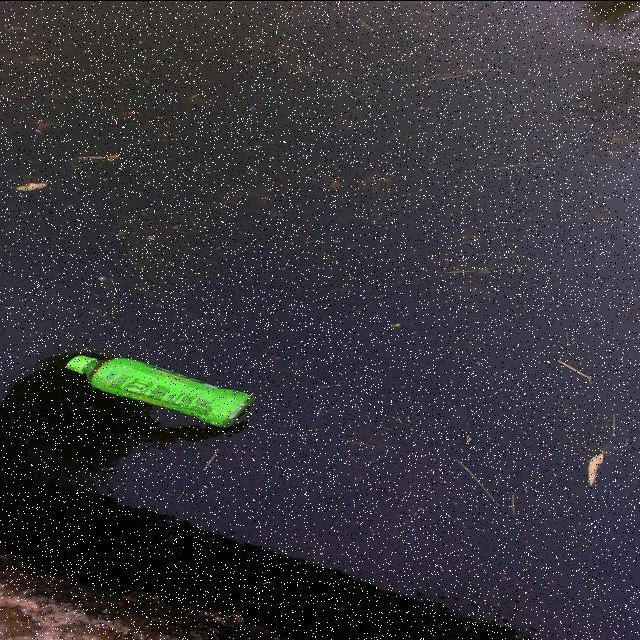Bottle: (58, 338, 260, 437)
